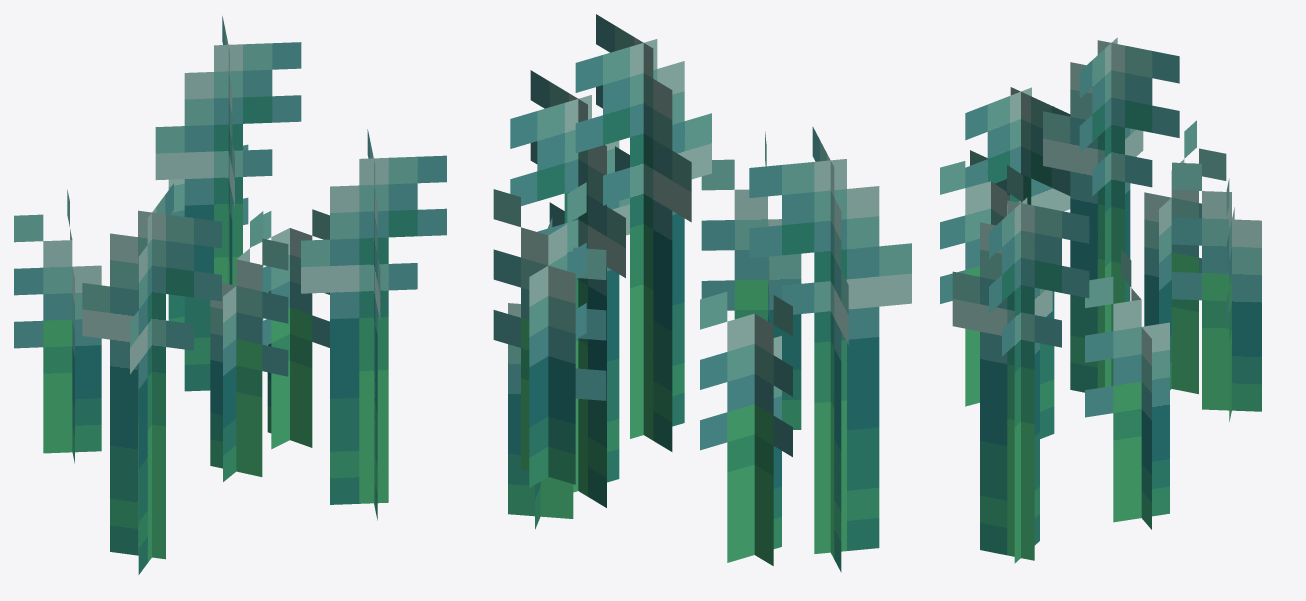
Rendered from crop_sweetcyanreed_stage1.obj.
The picture shows the model from 3 angles, left to right: view 1: azimuth 30°, elevation 25°; view 2: azimuth 150°, elevation 25°; view 3: azimuth 270°, elevation 25°; orthographic projection. The views are drawn at different scales.
Visible parts, largest first — view 1: cube_3, cube_6, cube_2, cube_13, cube_10, cube_15, cube_5, cube_16, cube_9, cube_4, cube_1, cube_12 (+1 smaller); view 2: cube_5, cube_1, cube_2, cube_12, cube_14, cube_3, cube_4, cube_9, cube_13, cube_16, cube_11, cube_6; view 3: cube_4, cube_1, cube_11, cube_15, cube_14, cube_3, cube_6, cube_2, cube_10, cube_5, cube_16, cube_13 (+2 smaller).
Boxes of the visible parts, x1,y1,x2,y2 form: cube_3: [301, 155, 446, 504]; cube_6: [82, 210, 221, 559]; cube_2: [155, 42, 301, 391]; cube_13: [14, 214, 101, 453]; cube_10: [210, 238, 288, 476]; cube_15: [267, 209, 329, 447]; cube_5: [130, 183, 173, 574]; cube_16: [252, 211, 289, 449]; cube_9: [223, 211, 263, 481]; cube_4: [367, 129, 380, 520]; cube_1: [222, 16, 234, 284]; cube_12: [168, 144, 248, 322]; cube_5: [749, 159, 911, 553]; cube_1: [575, 39, 711, 438]; cube_2: [596, 14, 691, 451]; cube_12: [493, 189, 575, 484]; cube_14: [700, 291, 781, 562]; cube_3: [530, 70, 625, 507]; cube_4: [510, 95, 629, 492]; cube_9: [701, 159, 801, 429]; cube_13: [754, 295, 792, 565]; cube_16: [508, 247, 606, 518]; cube_11: [529, 182, 586, 487]; cube_6: [812, 126, 848, 572]; cube_4: [952, 200, 1089, 560]; cube_1: [1043, 40, 1179, 392]; cube_11: [1172, 162, 1261, 411]; cube_15: [1085, 276, 1169, 522]; cube_14: [1144, 148, 1226, 394]; cube_3: [989, 197, 1052, 563]; cube_6: [965, 87, 1070, 438]; cube_2: [1079, 37, 1143, 386]; cube_10: [940, 161, 1007, 406]; cube_5: [970, 87, 1070, 204]; cube_16: [1121, 249, 1151, 529]; cube_13: [1159, 120, 1196, 389].
Bounding box in the file's own units: 0.8174 × 1.06 × 0.7299.
